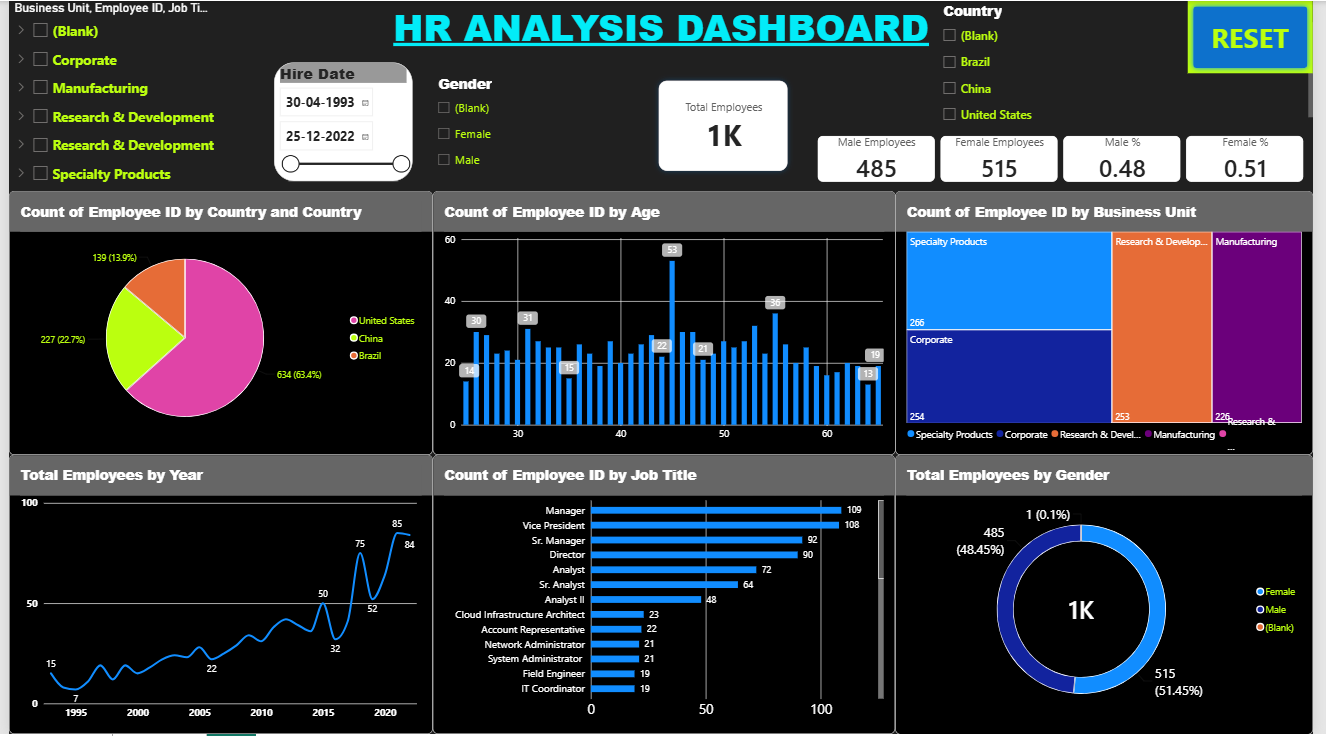

Layout of this report page (visuals, bound fields, positions):
{"tool":"powerbi","page":{"name":"Page 1","canvas":[1920,1080],"ordinal":0},"visuals":[{"type":"cardVisual","title":"HR ANALYSIS DASHBOARD","fields":{"Data":["Employee Data.Male Employees","Employee Data.Female Employees","Employee Data.Male %","Employee Data.Female %"]},"box":[1175.3,183.2,745.1,96.7],"z":0},{"type":"treemap","fields":{"Group":["Employee Data.Business Unit"],"Values":["CountNonNull(Employee Data.Employee ID)"]},"box":[1305,279.9,615.4,389],"z":1000},{"type":"donutChart","fields":{"Category":["Employee Data.Gender"],"Y":["Employee Data.Total Employees"]},"box":[1305,669,615.4,411.7],"z":2000},{"type":"pieChart","fields":{"Category":["Employee Data.Country","Employee ID (Sheet1) (2).Country"],"Series":["Table 3 (Chart).Country"],"Y":["CountNonNull(Employee Data.Employee ID)"]},"box":[0,279.9,623.7,389],"z":3000},{"type":"lineClusteredColumnComboChart","fields":{"Category":["Employee Data.Age"],"Y":["CountNonNull(Employee Data.Employee ID)"]},"box":[623.7,279.9,681.3,389],"z":4000},{"type":"lineChart","fields":{"Category":["Employee Data.Hire Date.Variation.Date Hierarchy.Year","Employee Data.Hire Date.Variation.Date Hierarchy.Quarter","Employee Data.Hire Date.Variation.Date Hierarchy.Month","Employee Data.Hire Date.Variation.Date Hierarchy.Day"],"Y":["Employee Data.Total Employees"]},"box":[0,669,624,411],"z":5000},{"type":"clusteredBarChart","fields":{"Category":["Employee Data.Job Title"],"Y":["CountNonNull(Employee Data.Employee ID)"]},"box":[624,669,681,411],"z":6000},{"type":"slicer","fields":{"Values":["Employee Data.Business Unit","Employee Data.Employee ID","Employee Data.Job Title"]},"box":[0,0,312.9,279.8],"z":7000},{"type":"textbox","box":[0,0,1920.4,80.3],"z":8000},{"type":"slicer","fields":{"Values":["Employee Data.Country"]},"box":[1366.7,0,553.7,183.2],"z":9000},{"type":"cardVisual","fields":{"Data":["Employee Data.Total Employees"]},"box":[930.4,90.6,244.9,187.3],"z":10000},{"type":"slicer","fields":{"Values":["Employee Data.Gender"]},"box":[623.7,107,306.7,152.3],"z":11000},{"type":"actionButton","box":[1735.6,0,184.1,106.7],"z":12000},{"type":"slicer","fields":{"Values":["Employee Data.Hire Date"]},"box":[390.2,90.2,204.3,174.8],"z":13000}]}

Visuals, with their boxes in screenshot pixels (x1, y1, x2, y2), scaled from the page's 1920x1080 canvas onto the 1326x736 screenshot:
"HR ANALYSIS DASHBOARD" cardVisual: BBox(812, 125, 1325, 191)
treemap - Employee Data.Business Unit x CountNonNull(Employee Data.Employee ID): BBox(901, 191, 1325, 456)
donutChart - Employee Data.Gender x Employee Data.Total Employees: BBox(901, 456, 1325, 735)
pieChart - Employee Data.Country x Employee ID (Sheet1) (2).Country: BBox(0, 191, 431, 456)
lineClusteredColumnComboChart - Employee Data.Age x CountNonNull(Employee Data.Employee ID): BBox(431, 191, 901, 456)
lineChart - Employee Data.Hire Date.Variation.Date Hierarchy.Year x Employee Data.Hire Date.Variation.Date Hierarchy.Quarter: BBox(0, 456, 431, 735)
clusteredBarChart - Employee Data.Job Title x CountNonNull(Employee Data.Employee ID): BBox(431, 456, 901, 735)
slicer - Employee Data.Business Unit x Employee Data.Employee ID: BBox(0, 0, 216, 191)
textbox: BBox(0, 0, 1325, 55)
slicer - Employee Data.Country: BBox(944, 0, 1325, 125)
cardVisual - Employee Data.Total Employees: BBox(643, 62, 812, 189)
slicer - Employee Data.Gender: BBox(431, 73, 643, 177)
actionButton: BBox(1199, 0, 1325, 73)
slicer - Employee Data.Hire Date: BBox(269, 61, 411, 181)
